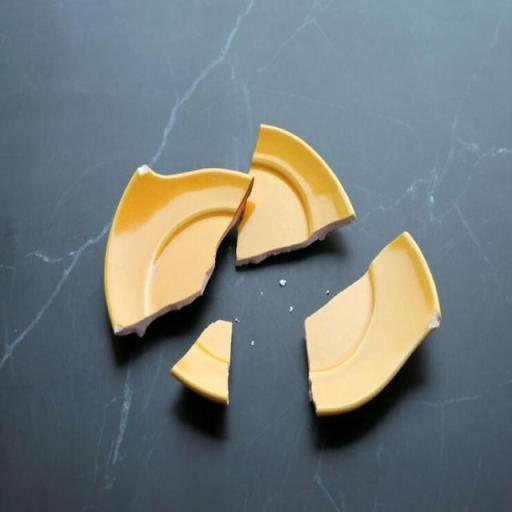glass: (96, 144, 258, 350), (296, 221, 442, 436), (234, 125, 354, 264), (172, 318, 232, 404)
